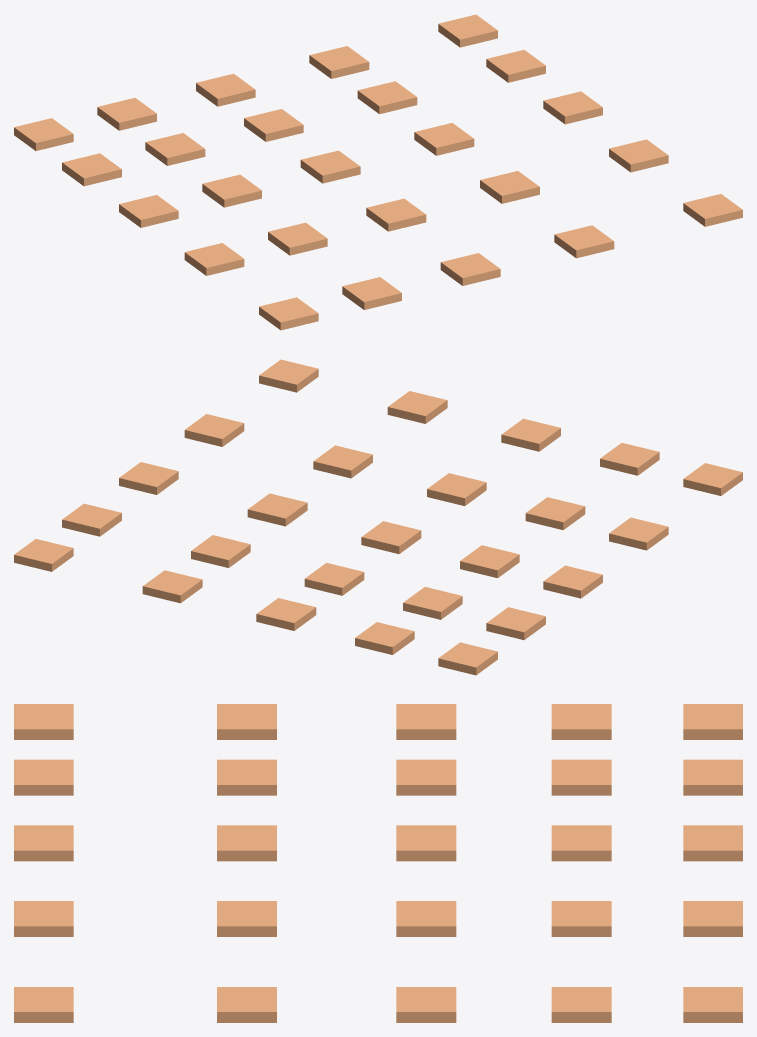
Rendered from board.glb.
The picture shows the model from 3 angles, top to bottom: view 1: azimuth 30°, elevation 25°; view 2: azimuth 150°, elevation 25°; view 3: azimuth 270°, elevation 25°; orthographic projection. The views are drawn at different scales.
Parts seen in each view (by area): view 1: Copper_Net1_Contour3, Copper_Net1_Contour18, Copper_Net1_Contour13, Copper_Net1_Contour5, Copper_Net1_Contour7, Copper_Net1_Contour23, Copper_Net1_Contour12, Copper_Net1_Contour16, Copper_Net1_Contour2, Copper_Net1_Contour9, Copper_Net1_Contour0, Copper_Net1_Contour24 (+13 smaller); view 2: Copper_Net1_Contour23, Copper_Net1_Contour13, Copper_Net1_Contour12, Copper_Net1_Contour6, Copper_Net1_Contour9, Copper_Net1_Contour17, Copper_Net1_Contour3, Copper_Net1_Contour22, Copper_Net1_Contour20, Copper_Net1_Contour8, Copper_Net1_Contour4, Copper_Net1_Contour5 (+13 smaller); view 3: Copper_Net1_Contour12, Copper_Net1_Contour17, Copper_Net1_Contour16, Copper_Net1_Contour11, Copper_Net1_Contour2, Copper_Net1_Contour1, Copper_Net1_Contour21, Copper_Net1_Contour6, Copper_Net1_Contour22, Copper_Net1_Contour7, Copper_Net1_Contour10, Copper_Net1_Contour18 (+13 smaller).
Boxes of the visible parts, bbox=[...] form: Copper_Net1_Contour3: bbox=[554, 225, 614, 258]; Copper_Net1_Contour18: bbox=[357, 81, 417, 114]; Copper_Net1_Contour13: bbox=[414, 123, 474, 155]; Copper_Net1_Contour5: bbox=[184, 243, 244, 275]; Copper_Net1_Contour7: bbox=[366, 198, 426, 231]; Copper_Net1_Contour23: bbox=[309, 46, 369, 78]; Copper_Net1_Contour12: bbox=[300, 150, 360, 183]; Copper_Net1_Contour16: bbox=[145, 133, 205, 165]; Copper_Net1_Contour2: bbox=[440, 253, 500, 285]; Copper_Net1_Contour9: bbox=[609, 139, 668, 172]; Copper_Net1_Contour0: bbox=[259, 297, 318, 330]; Copper_Net1_Contour24: bbox=[438, 14, 497, 47]; Copper_Net1_Contour23: bbox=[142, 570, 202, 603]; Copper_Net1_Contour13: bbox=[247, 493, 307, 526]; Copper_Net1_Contour12: bbox=[361, 521, 421, 553]; Copper_Net1_Contour6: bbox=[525, 497, 585, 530]; Copper_Net1_Contour9: bbox=[184, 414, 244, 446]; Copper_Net1_Contour17: bbox=[304, 563, 364, 595]; Copper_Net1_Contour3: bbox=[387, 391, 447, 423]; Copper_Net1_Contour22: bbox=[256, 598, 316, 630]; Copper_Net1_Contour20: bbox=[438, 642, 497, 675]; Copper_Net1_Contour8: bbox=[313, 445, 372, 478]; Copper_Net1_Contour4: bbox=[259, 359, 318, 392]; Copper_Net1_Contour5: bbox=[609, 517, 668, 550]; Copper_Net1_Contour12: bbox=[396, 825, 456, 861]; Copper_Net1_Contour17: bbox=[551, 825, 611, 861]; Copper_Net1_Contour16: bbox=[551, 759, 611, 795]; Copper_Net1_Contour11: bbox=[396, 759, 456, 795]; Copper_Net1_Contour2: bbox=[14, 825, 73, 861]; Copper_Net1_Contour1: bbox=[14, 759, 73, 795]; Copper_Net1_Contour21: bbox=[683, 759, 742, 795]; Copper_Net1_Contour6: bbox=[217, 759, 276, 795]; Copper_Net1_Contour22: bbox=[683, 825, 742, 861]; Copper_Net1_Contour7: bbox=[217, 825, 276, 861]; Copper_Net1_Contour10: bbox=[396, 704, 456, 739]; Copper_Net1_Contour18: bbox=[551, 901, 611, 936].
Bounding box in the file's own units: 6.1e-05 × 1e-06 × 6.1e-05.
